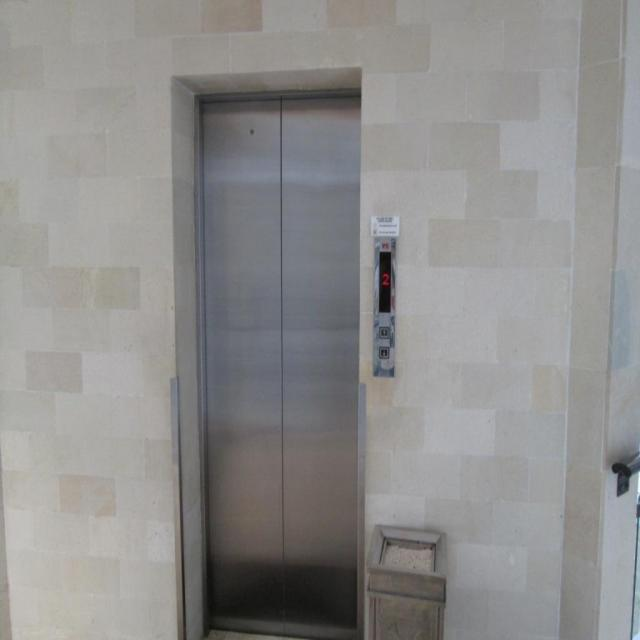down: (377, 344, 389, 358)
led: (376, 248, 392, 314)
up: (377, 324, 389, 339)
